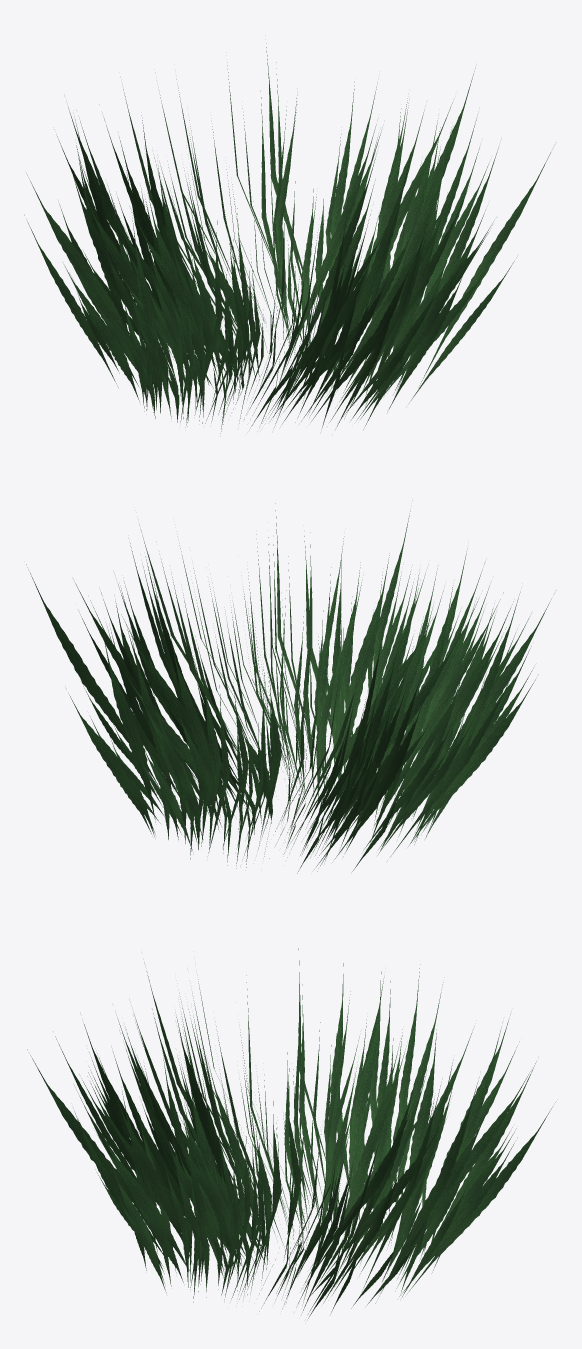
File: GRASS_02_Dry_Tuft.glb
3 renders of one model, top to bottom at view 1: azimuth 30°, elevation 25°; view 2: azimuth 150°, elevation 25°; view 3: azimuth 270°, elevation 25°, orthographic. The views are drawn at different scales.
Parts seen in each view (by area): view 1: GRASS_02_Dry_Tuft__FoliageCards; view 2: GRASS_02_Dry_Tuft__FoliageCards; view 3: GRASS_02_Dry_Tuft__FoliageCards.
Boxes of the visible parts, bbox=[...] form: GRASS_02_Dry_Tuft__FoliageCards: bbox=[24, 43, 550, 433]; GRASS_02_Dry_Tuft__FoliageCards: bbox=[26, 503, 551, 873]; GRASS_02_Dry_Tuft__FoliageCards: bbox=[27, 948, 555, 1318].
Bounding box in the file's own units: 0.9998 × 0.5317 × 0.9985.
Materials: 1 (1 with a texture image).
